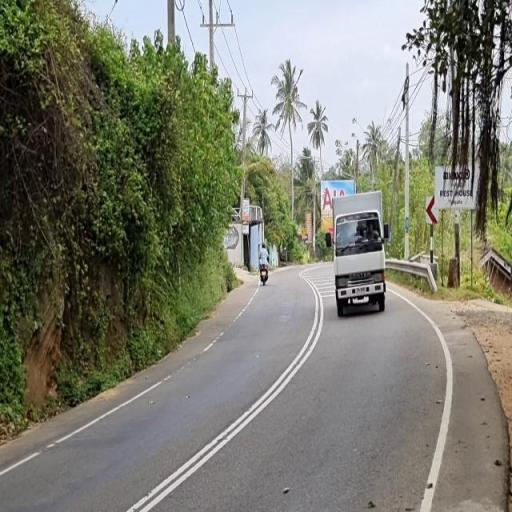double_white_line: (127, 278, 326, 510)
